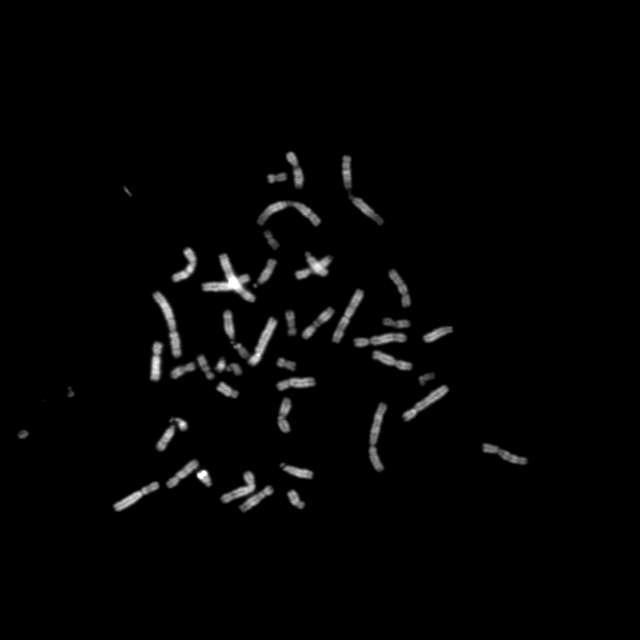chromosome: (341, 154, 384, 226), (220, 252, 256, 304), (256, 200, 322, 228), (332, 288, 364, 344), (152, 292, 180, 356), (402, 386, 448, 424), (248, 317, 278, 369), (114, 480, 160, 512), (222, 310, 248, 358), (157, 416, 187, 454), (482, 442, 528, 466), (302, 306, 334, 340), (368, 403, 384, 471), (222, 472, 255, 502), (202, 274, 250, 294), (171, 248, 197, 284), (240, 486, 274, 512), (168, 459, 198, 487), (373, 350, 413, 370), (296, 257, 332, 279), (388, 270, 410, 306), (304, 248, 328, 278), (287, 153, 305, 190), (148, 342, 164, 382), (280, 459, 312, 479), (255, 259, 279, 285), (354, 334, 406, 346), (213, 358, 245, 377), (276, 377, 318, 391), (423, 326, 452, 344), (170, 362, 198, 380), (198, 353, 215, 382), (279, 399, 291, 433), (284, 309, 298, 337), (263, 228, 279, 252), (384, 316, 411, 330), (218, 382, 240, 398), (276, 357, 296, 373), (288, 490, 304, 510), (196, 470, 212, 488), (418, 372, 438, 386), (268, 172, 288, 184)
